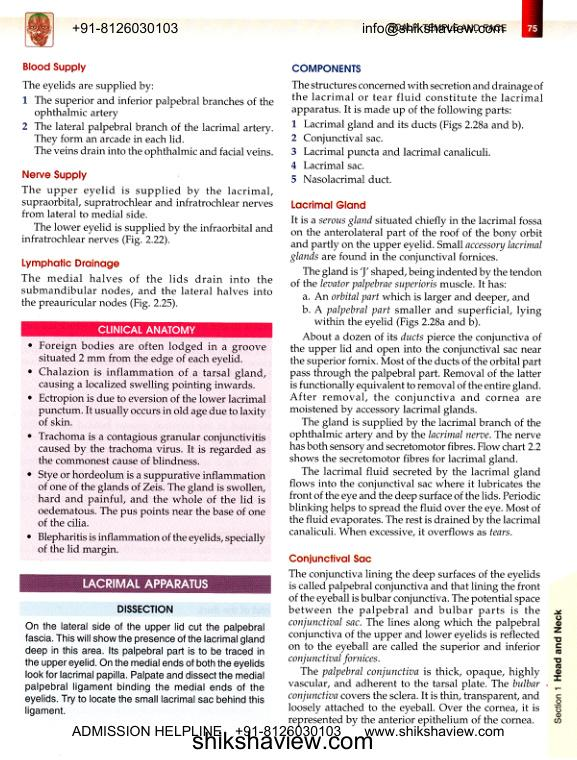caption: (97, 325, 196, 335), (116, 603, 174, 615)
list: (26, 339, 266, 559), (289, 118, 526, 186), (20, 94, 275, 157), (300, 291, 543, 329)
section-heading: (82, 577, 210, 590)
sub-section-heading: (20, 257, 120, 270), (288, 552, 373, 565), (22, 60, 88, 74), (21, 169, 88, 182), (290, 62, 362, 74), (289, 199, 367, 210)
text: (288, 330, 541, 538), (286, 567, 541, 726), (22, 619, 267, 717), (289, 213, 543, 290), (20, 184, 275, 247), (290, 78, 545, 117), (20, 272, 274, 311), (21, 79, 154, 93)
